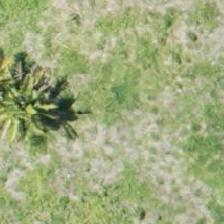coconut_tree: (0, 66, 66, 156)
